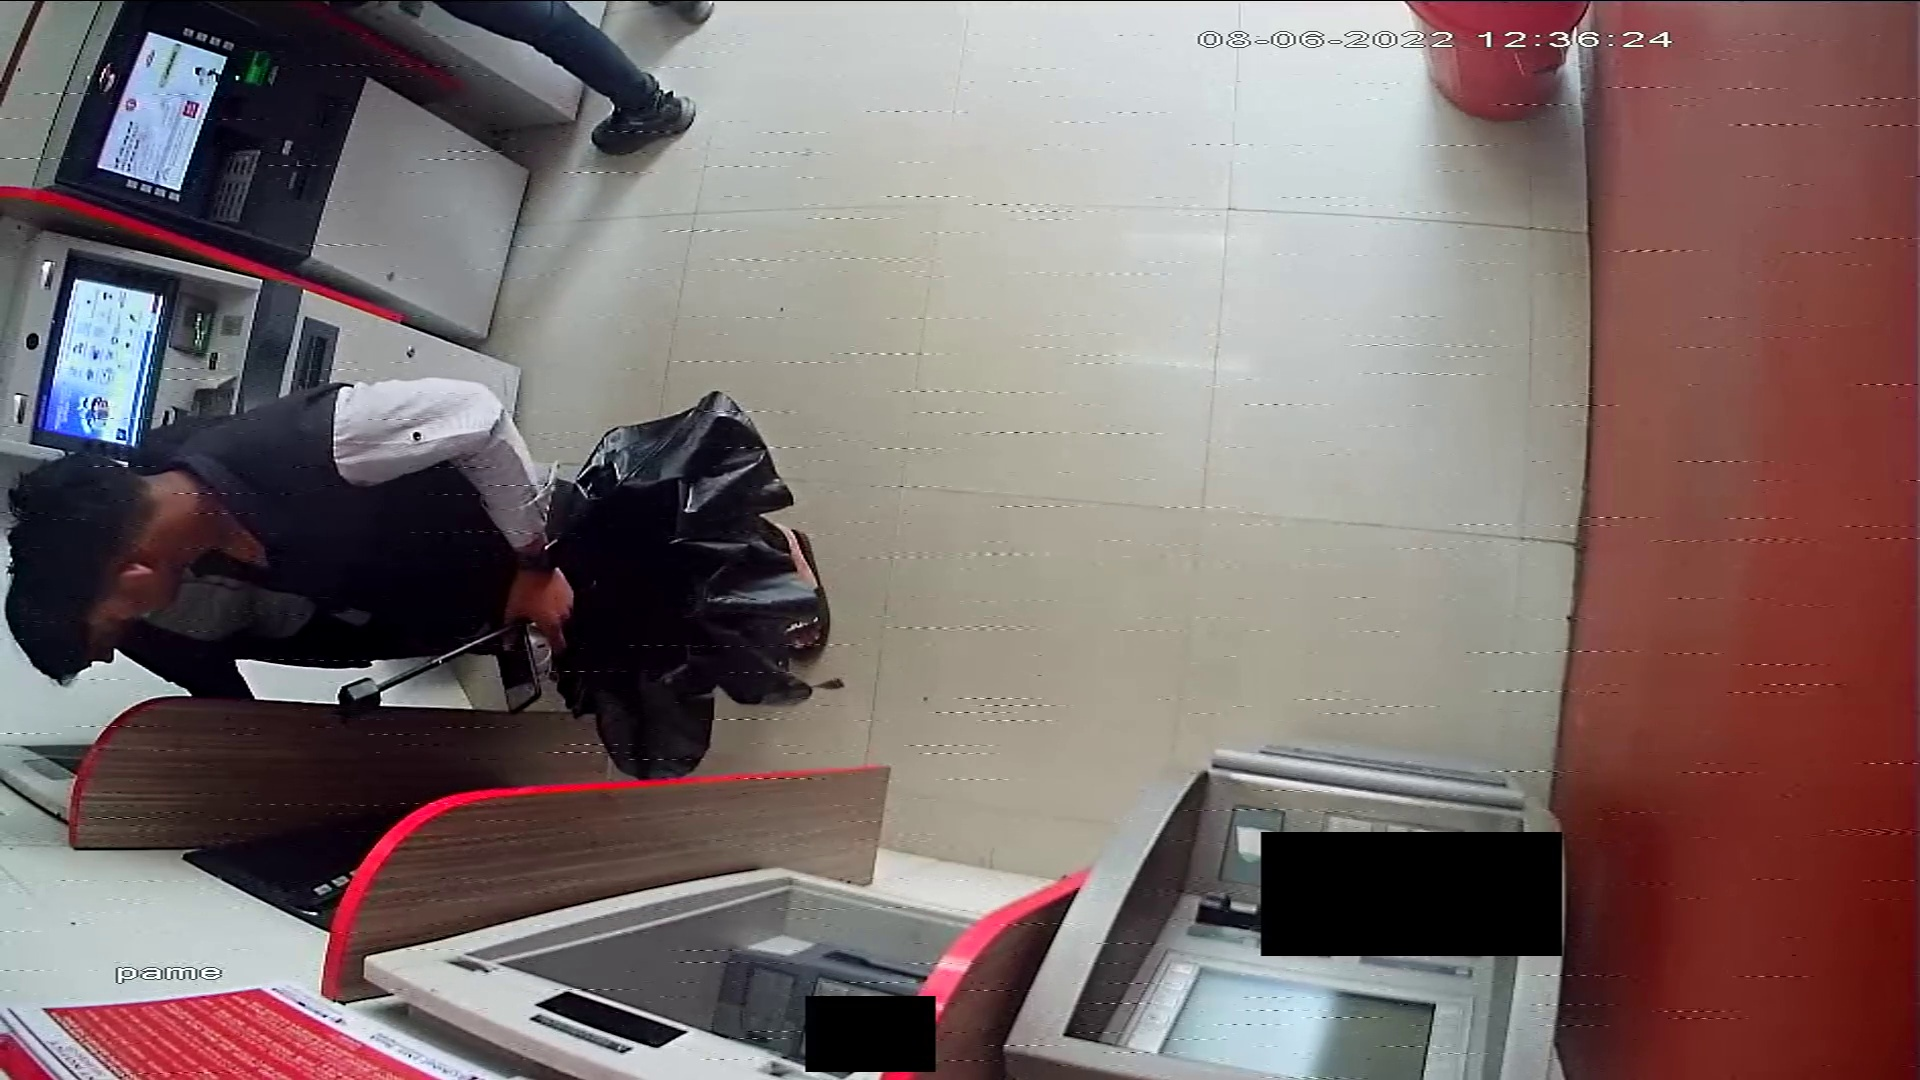person: (13, 380, 841, 656)
